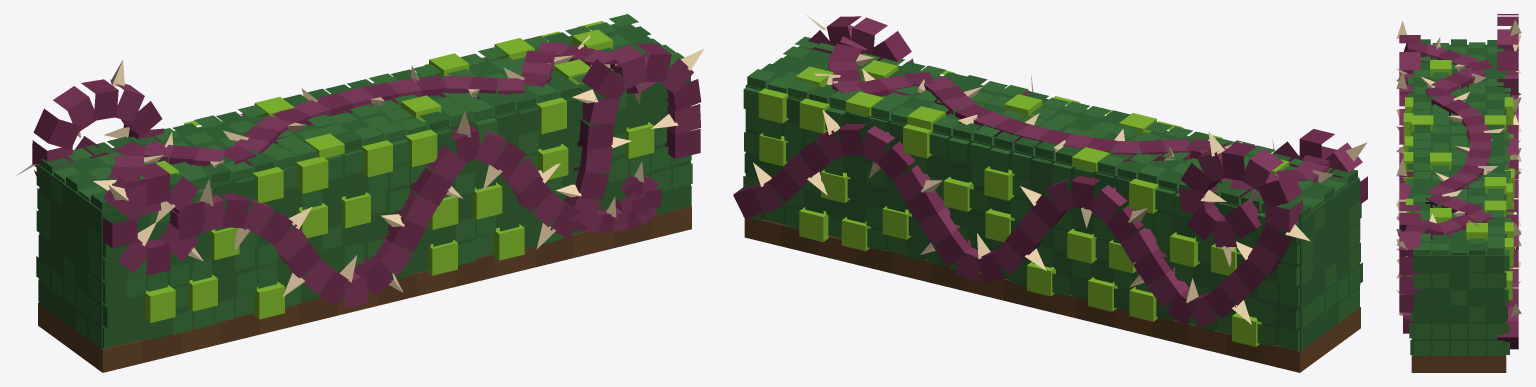
File: Thornwood_BrambleHedge.glb
3 views of the same model, side by side, from view 1: azimuth 30°, elevation 25°; view 2: azimuth 150°, elevation 25°; view 3: azimuth 270°, elevation 25° (orthographic). The views are drawn at different scales.
Visible parts, largest first — view 1: Leaves, Vines, LeafAccents, Dirt, Thorns; view 2: Leaves, Vines, LeafAccents, Dirt, Thorns; view 3: Leaves, Vines, LeafAccents, Thorns, Dirt.
Boxes of the visible parts, x1,y1,x2,y2 form: Leaves: [36, 14, 692, 349]; Vines: [32, 42, 701, 309]; LeafAccents: [143, 21, 654, 323]; Dirt: [38, 206, 691, 372]; Thorns: [15, 34, 704, 297]; Leaves: [743, 36, 1362, 350]; Vines: [733, 16, 1367, 327]; LeafAccents: [758, 60, 1289, 346]; Dirt: [744, 218, 1360, 372]; Thorns: [753, 15, 1367, 324]; Leaves: [1406, 39, 1511, 356]; Vines: [1398, 14, 1518, 349]; LeafAccents: [1403, 60, 1514, 300]; Thorns: [1396, 19, 1521, 316]; Dirt: [1411, 338, 1506, 372].
Size of the model in its own units: 3.12 by 1.17 by 0.754.
